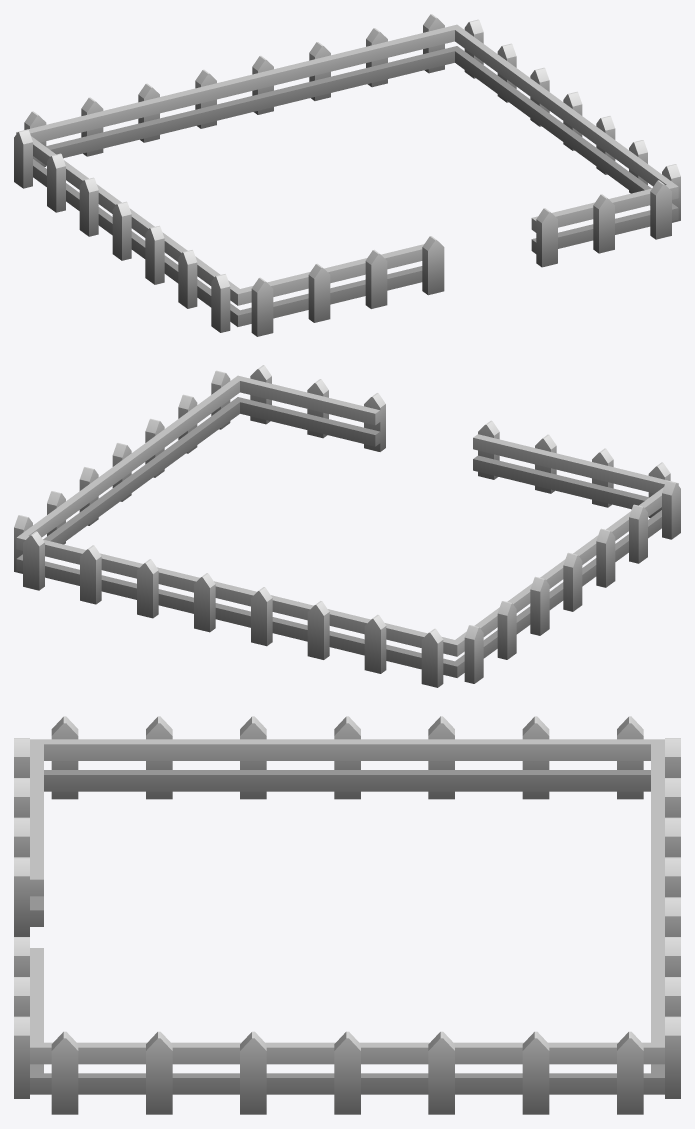
The model's file is fence white big.fbx.
3 renders of one model, top to bottom at view 1: azimuth 30°, elevation 25°; view 2: azimuth 150°, elevation 25°; view 3: azimuth 270°, elevation 25°, orthographic. The views are drawn at different scales.
Parts seen in each view (by area): view 1: fence_white_big; view 2: fence_white_big; view 3: fence_white_big.
Boxes of the visible parts, x1,y1,x2,y2 form: fence_white_big: (14,14,680,336); fence_white_big: (14,365,680,687); fence_white_big: (14,716,680,1114).
Bounding box in the file's own units: 953 × 105 × 834.
1 material, 1 textured.
